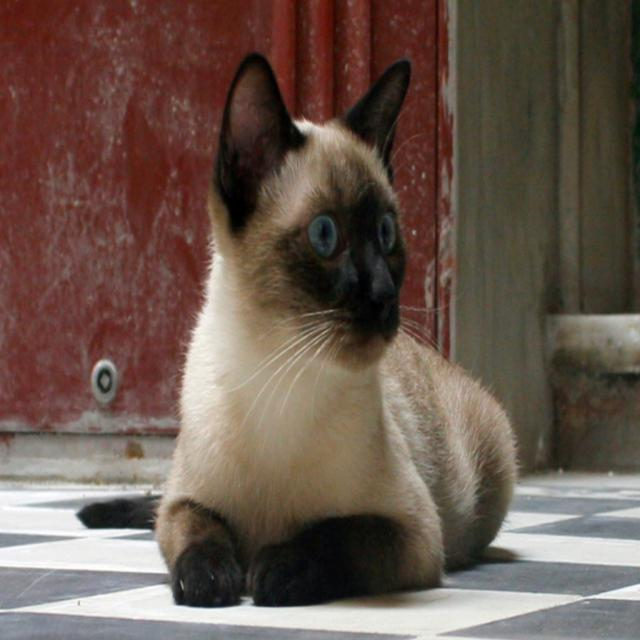Cat: (72, 48, 520, 606)
